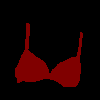reggiseno: (15, 22, 83, 87)
